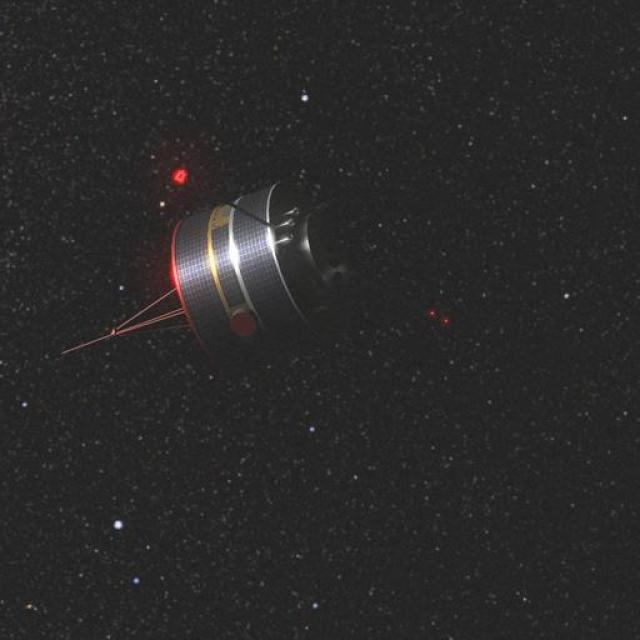double_start: (80, 151, 370, 379)
